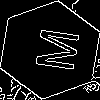M: (25, 25, 80, 73)
